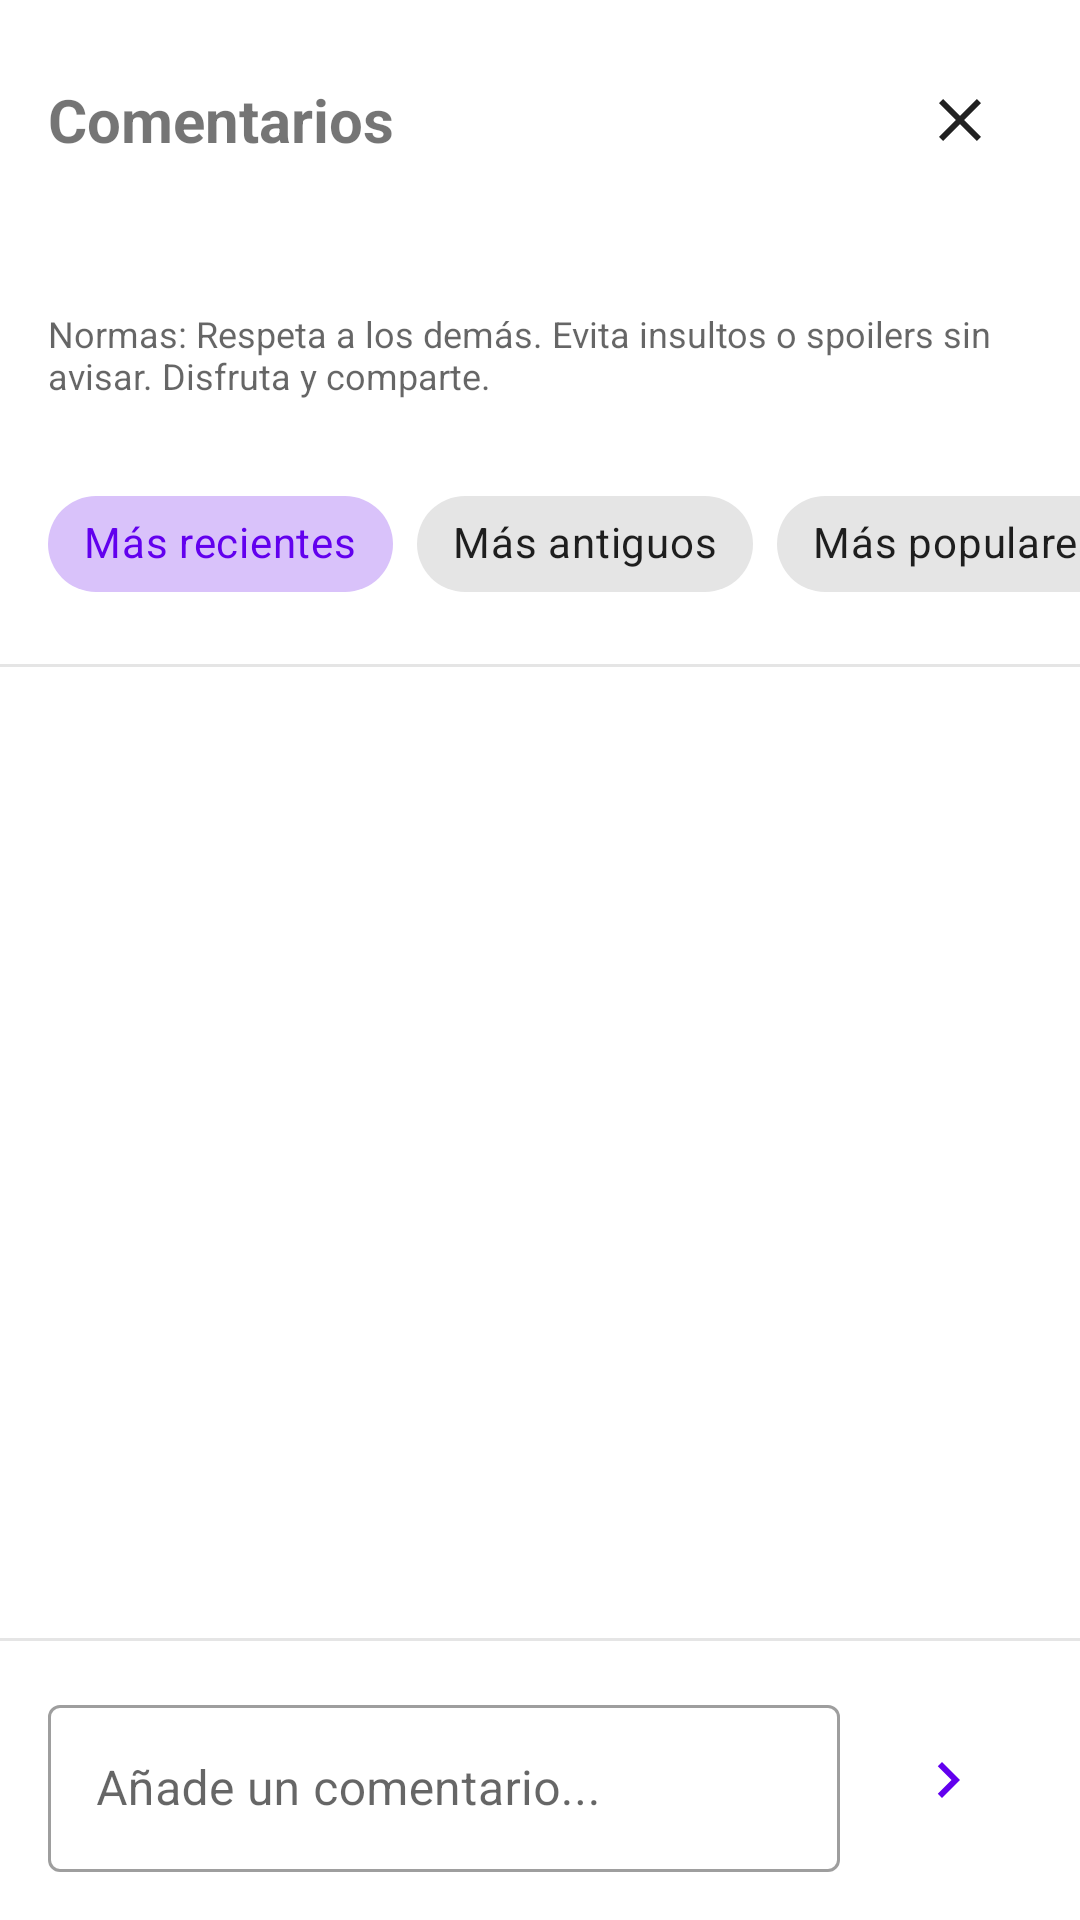

Locate icon controls on the screen. Image size 1080w x 1920h, boxes as detection(x1, y1, x2, y2).
Cerrar comentarios: detection(939, 99, 981, 141)
Enviar comentario: detection(938, 1762, 960, 1798)
